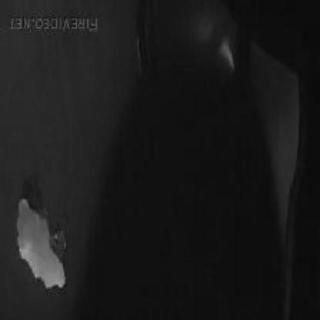Fire: (14, 196, 70, 293)
